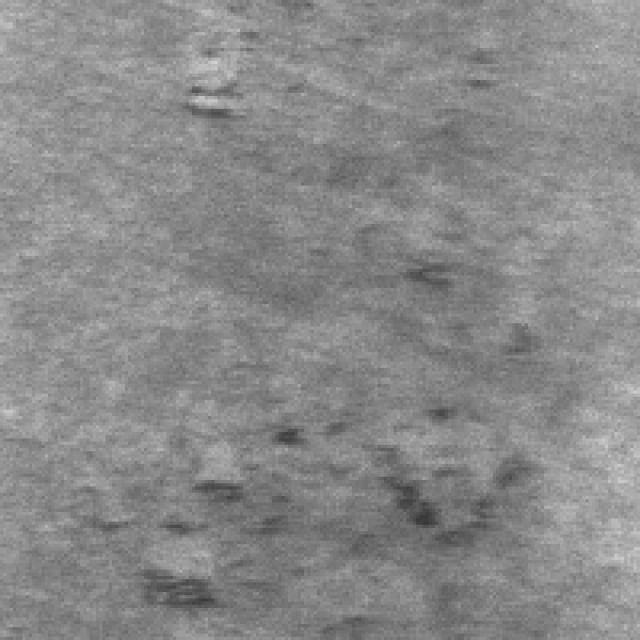rolled-in_scale: (86, 410, 532, 598), (176, 35, 269, 131)
